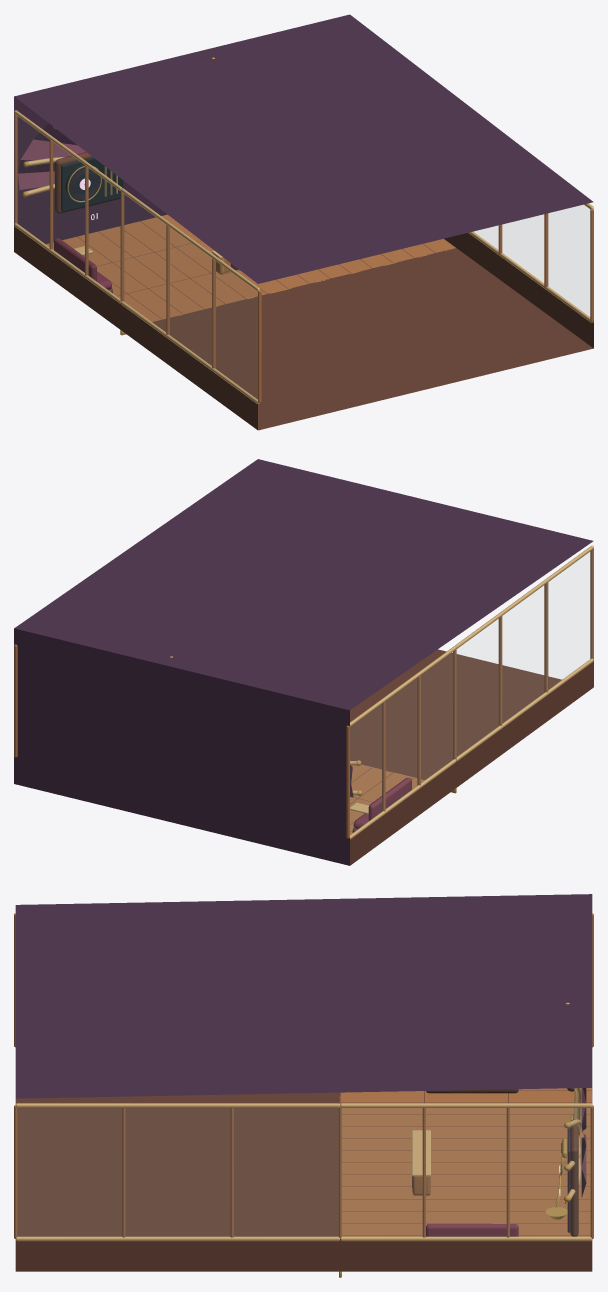
Rendered from cantina.glb.
3 renders of one model, top to bottom at view 1: azimuth 30°, elevation 25°; view 2: azimuth 150°, elevation 25°; view 3: azimuth 270°, elevation 25°, orthographic. The views are drawn at different scales.
Visible parts, largest first — view 1: Pavilion roof - Night plum, Floor extension - Walnut, Parquet - Pearwood, Garden windows - Walnut, Acoustic backing - Night plum, Garden windows - Pearwood, Garden windows - Sapwood, Single record rack - Vinyl, Fan shell - Mulberry, Floor - Walnut, Side booths - Burgundy, Fan shell - Night plum (+1 smaller); view 2: Pavilion roof - Night plum, Acoustic backing - Night plum, Floor extension - Walnut, Garden windows - Walnut, Garden windows - Pearwood, Garden windows - Sapwood, Parquet - Pearwood, Side booths - Burgundy; view 3: Pavilion roof - Night plum, Floor extension - Walnut, Parquet - Pearwood, Garden windows - Walnut, Garden windows - Sapwood, Garden windows - Pearwood, Floor - Walnut, Side booths - Burgundy, Coin return - Walnut, Counter - Sapwood, Fan shell - Sapwood.
Part boxes in pixels (<box>): Pavilion roof - Night plum: <box>14,14,593,283</box>; Floor extension - Walnut: <box>152,248,593,430</box>; Parquet - Pearwood: <box>46,214,455,321</box>; Garden windows - Walnut: <box>14,224,593,429</box>; Acoustic backing - Night plum: <box>14,96,167,244</box>; Garden windows - Pearwood: <box>14,113,593,402</box>; Garden windows - Sapwood: <box>14,110,593,404</box>; Single record rack - Vinyl: <box>61,157,123,211</box>; Fan shell - Mulberry: <box>18,139,85,189</box>; Floor - Walnut: <box>77,216,454,321</box>; Side booths - Burgundy: <box>54,238,111,289</box>; Fan shell - Night plum: <box>18,123,76,173</box>; Pavilion roof - Night plum: <box>14,459,593,710</box>; Acoustic backing - Night plum: <box>14,628,349,865</box>; Floor extension - Walnut: <box>350,649,561,779</box>; Garden windows - Walnut: <box>350,660,593,865</box>; Garden windows - Pearwood: <box>14,548,593,838</box>; Garden windows - Sapwood: <box>350,545,593,839</box>; Parquet - Pearwood: <box>350,764,424,834</box>; Side booths - Burgundy: <box>353,777,411,829</box>; Pavilion roof - Night plum: <box>15,894,592,1098</box>; Floor extension - Walnut: <box>15,1092,340,1236</box>; Parquet - Pearwood: <box>340,1088,591,1236</box>; Garden windows - Walnut: <box>15,1239,592,1271</box>; Garden windows - Sapwood: <box>15,1103,592,1241</box>; Garden windows - Pearwood: <box>14,913,593,1238</box>; Floor - Walnut: <box>340,1088,592,1235</box>; Side booths - Burgundy: <box>426,1224,518,1236</box>; Coin return - Walnut: <box>570,1119,578,1236</box>; Counter - Sapwood: <box>412,1130,430,1176</box>; Fan shell - Sapwood: <box>568,1088,581,1198</box>.
Bounding box in the file's own units: 19.38 × 8.81 × 24.29.
